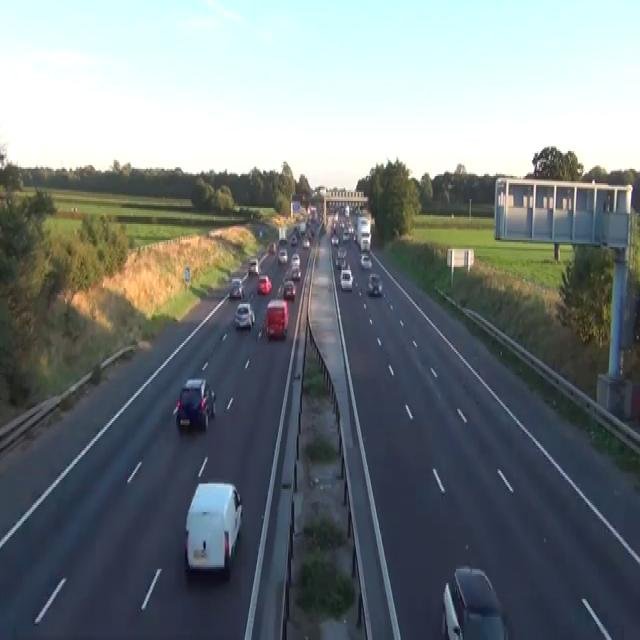Car: (183, 480, 242, 576), (441, 566, 509, 638), (174, 377, 216, 430), (263, 298, 288, 339), (233, 302, 255, 329), (367, 272, 382, 295), (229, 277, 244, 299), (256, 274, 272, 293), (340, 268, 353, 290), (283, 279, 295, 301), (335, 247, 347, 269), (248, 256, 259, 276), (360, 250, 372, 268), (277, 247, 288, 263), (360, 234, 370, 250), (291, 265, 301, 279), (291, 252, 300, 266), (342, 229, 350, 242), (337, 247, 346, 258), (267, 242, 275, 254), (278, 237, 287, 246), (302, 237, 310, 247), (331, 235, 339, 245), (290, 235, 297, 245), (328, 202, 335, 212), (307, 226, 314, 236), (259, 230, 262, 237)
Truck: (356, 215, 371, 251)
